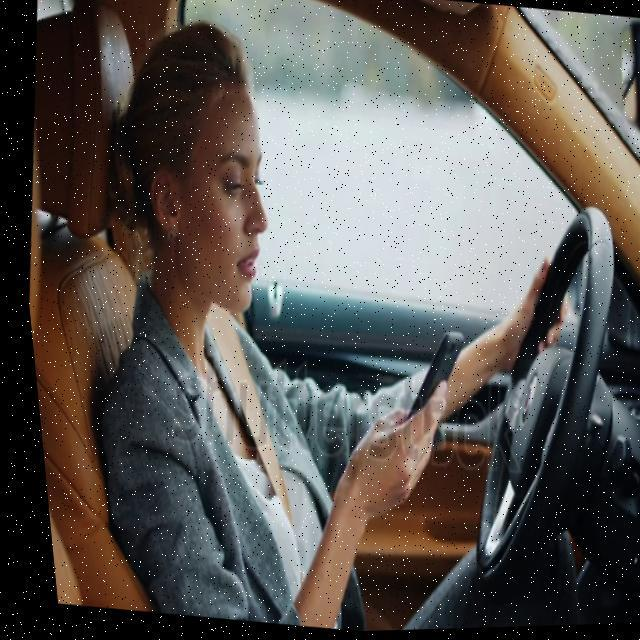PhoneCall: (383, 330, 465, 436)
